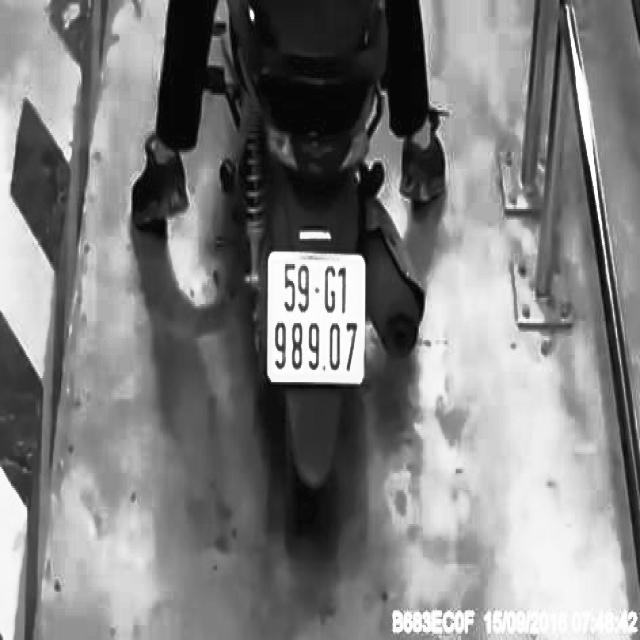license_plate: (264, 245, 379, 398)
